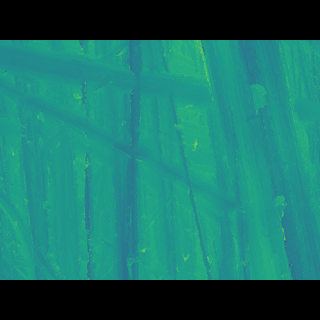Loch: (0, 71, 244, 215), (199, 69, 320, 250)
